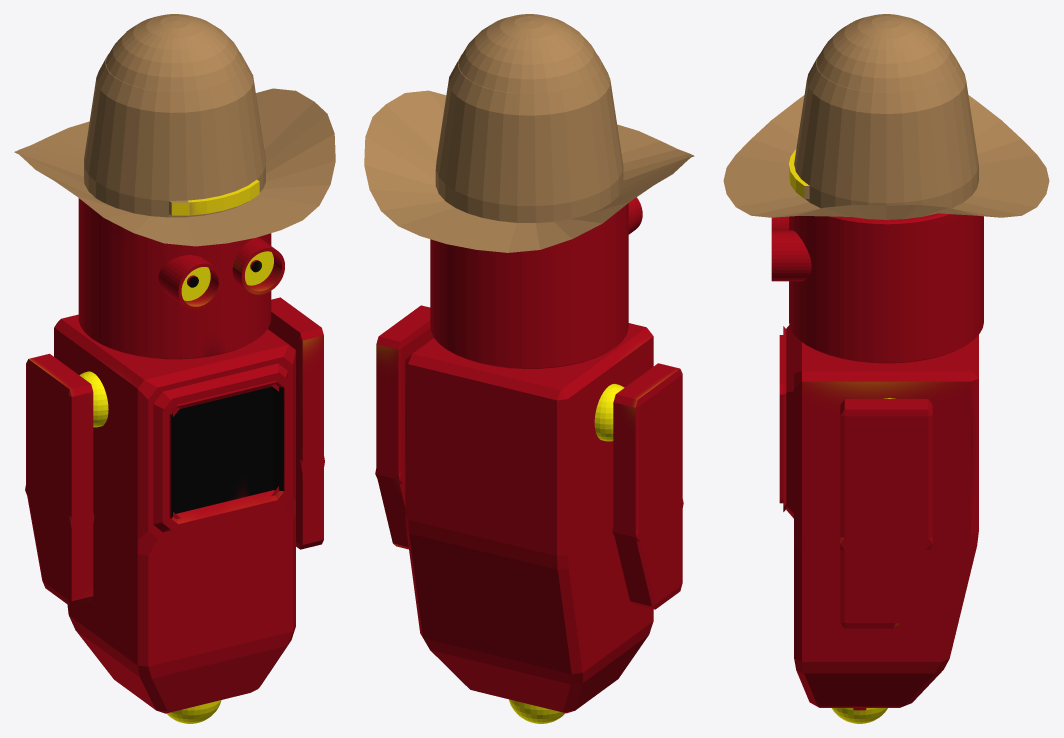
The model's file is Southern Robot.glb.
3 views of the same model, side by side, from view 1: azimuth 30°, elevation 25°; view 2: azimuth 150°, elevation 25°; view 3: azimuth 270°, elevation 25° (orthographic). The views are drawn at different scales.
Visible parts, largest first — view 1: Cube.001, Sphere; view 2: Cube.001, Sphere; view 3: Cube.001, Sphere.
Part boxes in pixels (x1,y1,x2,y2): Cube.001: (25, 198, 324, 723); Sphere: (14, 14, 335, 246); Cube.001: (375, 197, 683, 723); Sphere: (364, 14, 694, 252); Cube.001: (771, 213, 983, 723); Sphere: (723, 14, 1049, 219).
Bounding box in the file's own units: 3.53 × 8.35 × 3.53.
2 materials, 2 textured.
